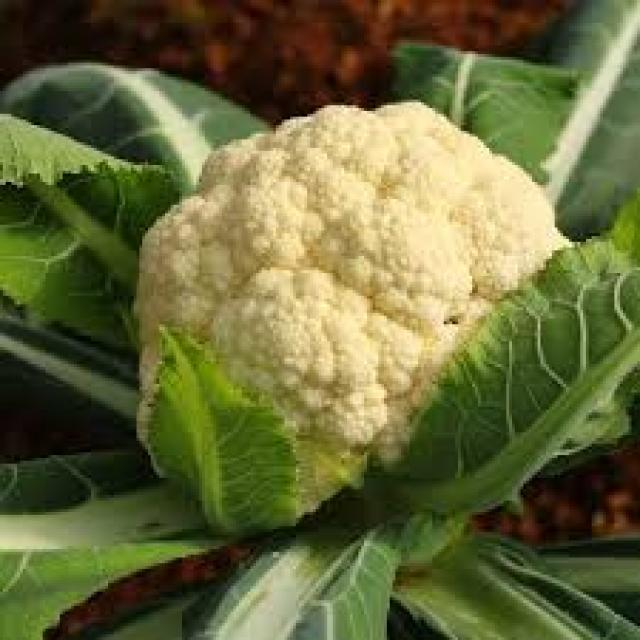organic waste: (0, 0, 637, 637), (128, 100, 631, 529), (148, 324, 296, 535)
